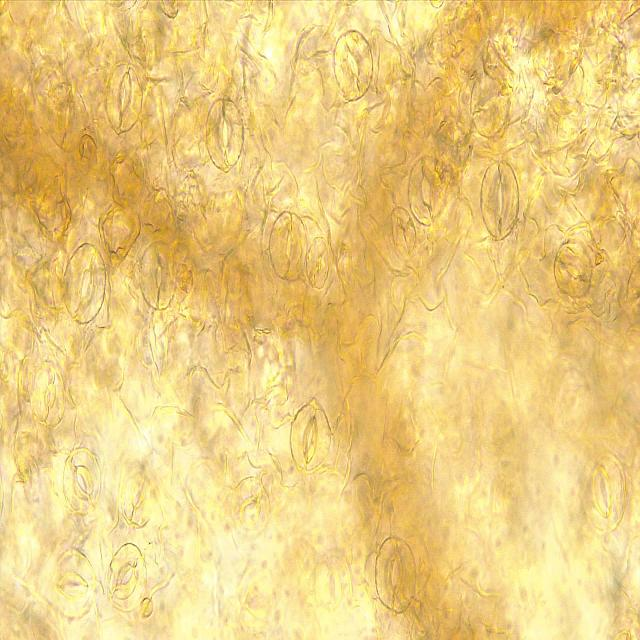Stomata: (582, 450, 626, 533), (46, 548, 96, 619), (62, 243, 106, 322), (375, 536, 417, 614), (333, 28, 374, 102), (481, 161, 518, 242), (47, 81, 87, 155), (289, 402, 331, 472), (106, 542, 148, 611), (206, 97, 244, 173), (269, 210, 308, 284), (316, 549, 352, 625), (106, 62, 142, 132), (63, 446, 100, 514), (409, 158, 447, 224), (232, 477, 270, 542), (140, 242, 176, 310), (471, 75, 509, 139), (32, 362, 66, 428), (554, 240, 592, 296), (121, 471, 154, 528)
